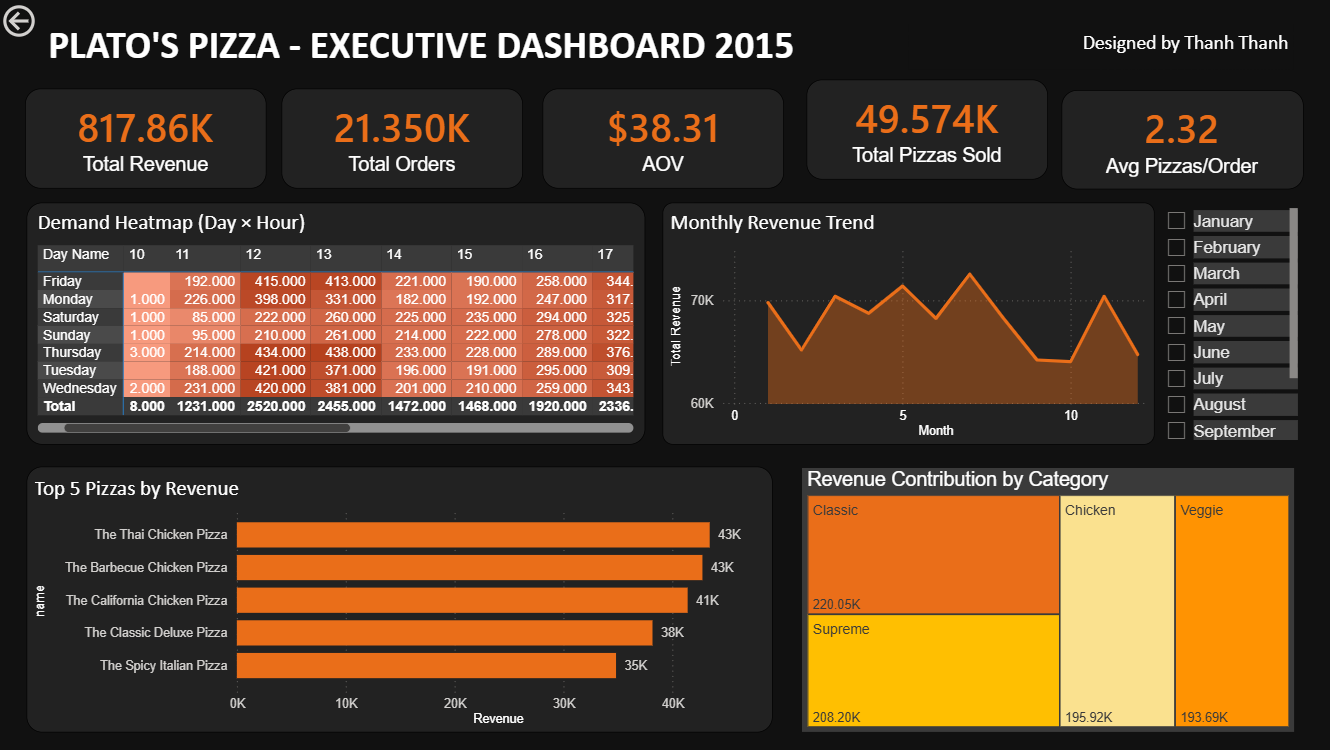

Layout of this report page (visuals, bound fields, positions):
{"tool":"powerbi","page":{"name":"Executive Summary","canvas":[1280,720],"ordinal":0},"visuals":[{"type":"textbox","box":[41.7,13.3,845,61.7],"z":0},{"type":"cardVisual","fields":{"Data":["metrics.Total Revenue"]},"box":[41.7,86.7,210,110],"z":1000},{"type":"cardVisual","fields":{"Data":["metrics.Total Orders"]},"box":[286.7,86.7,210,110],"z":2000},{"type":"cardVisual","fields":{"Data":["metrics.Avg Order Value"]},"box":[535,86.7,210,110],"z":3000},{"type":"clusteredColumnChart","title":"Peak Hours","fields":{"Category":["orders.hour"],"Y":["CountNonNull(orders.order_id)"]},"box":[40.6,219.4,583.3,258.3],"z":4000},{"type":"cardVisual","fields":{"Data":["metrics.Total Pizzas Sold"]},"box":[781.7,85,210,111.7],"z":4001},{"type":"cardVisual","fields":{"Data":["metrics.Avg Pizzas Per Order"]},"box":[1030,86.7,210,110],"z":4002},{"type":"actionButton","box":[0,0,100,40],"z":4005},{"type":"lineChart","title":"Monthly Revenue Trend","fields":{"Y":["metrics.Total Revenue"],"Category":["orders.Month Num"]},"box":[655.6,219.4,583.3,258.3],"z":4006},{"type":"clusteredBarChart","box":[41.7,486.7,581.7,211.7],"z":4007}]}

Visuals, with their boxes in screenshot pixels (x1, y1, x2, y2), scaled from the page's 1280x720 canvas onto the 1330x750 screenshot:
textbox: BBox(43, 14, 921, 78)
cardVisual - metrics.Total Revenue: BBox(43, 90, 262, 205)
cardVisual - metrics.Total Orders: BBox(298, 90, 516, 205)
cardVisual - metrics.Avg Order Value: BBox(556, 90, 774, 205)
"Peak Hours" clusteredColumnChart: BBox(42, 229, 648, 498)
cardVisual - metrics.Total Pizzas Sold: BBox(812, 89, 1030, 205)
cardVisual - metrics.Avg Pizzas Per Order: BBox(1070, 90, 1288, 205)
actionButton: BBox(0, 0, 104, 42)
"Monthly Revenue Trend" lineChart: BBox(681, 229, 1287, 498)
clusteredBarChart: BBox(43, 507, 648, 728)
